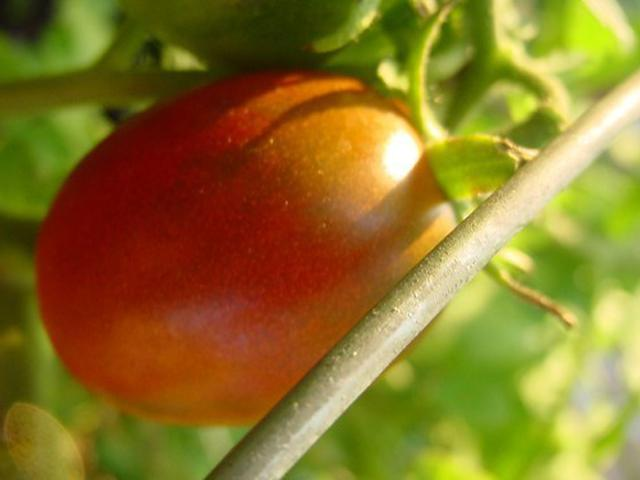tomato: (36, 74, 454, 420)
